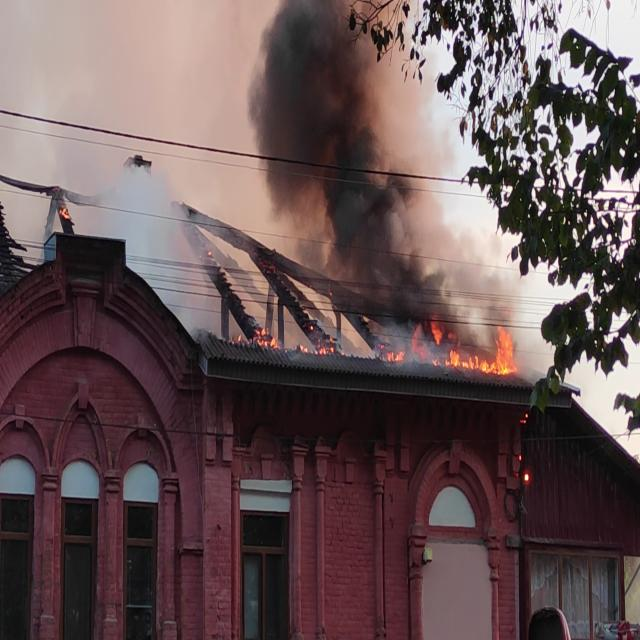fire: (415, 295, 516, 375)
smoke: (254, 0, 418, 304)
